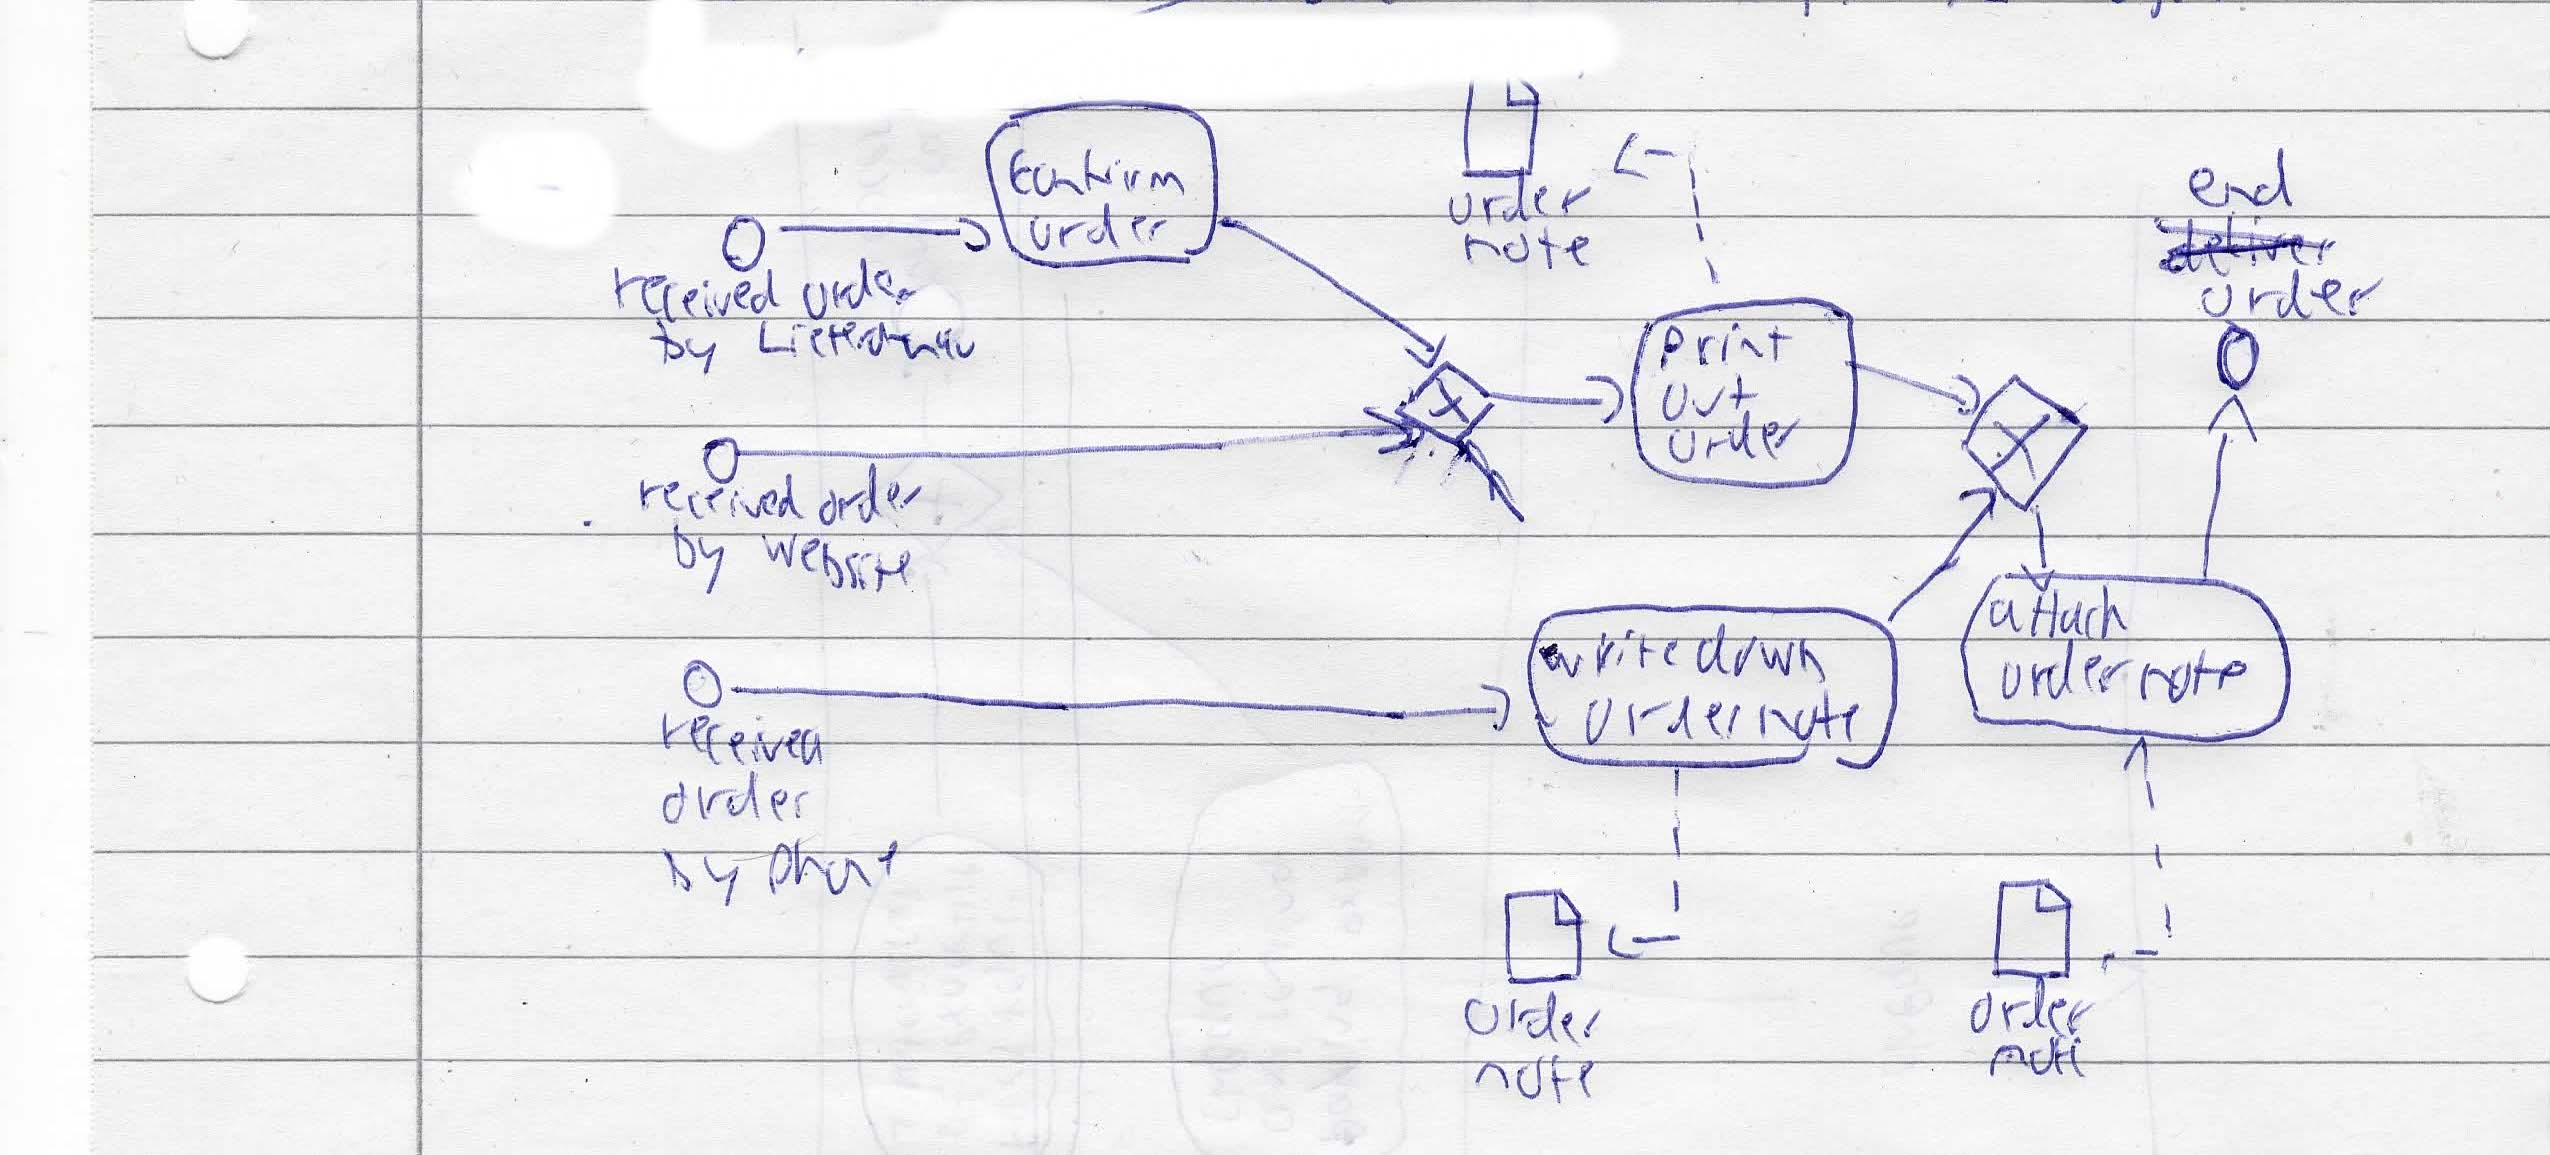Confirm: (1003, 146, 1186, 198)
Lieferando: (756, 316, 984, 364)
Order: (1581, 691, 1751, 743), (1464, 987, 1607, 1043)
Out: (1659, 376, 1760, 421)
attach: (1986, 587, 2127, 643)
by: (660, 839, 746, 904), (672, 514, 730, 595), (649, 319, 724, 374)
down: (1695, 621, 1826, 685)
end: (2186, 146, 2295, 211)
note: (1460, 228, 1595, 272), (1472, 1056, 1597, 1103), (1755, 691, 1865, 743), (2140, 649, 2248, 700), (1986, 1030, 2091, 1079)
order: (659, 769, 812, 831), (799, 252, 930, 320), (2199, 273, 2382, 322), (1995, 641, 2134, 701), (1025, 200, 1173, 254), (1665, 408, 1800, 465), (1447, 177, 1594, 226), (1966, 983, 2098, 1036), (818, 473, 925, 529)
phone: (763, 831, 904, 896)
print: (1656, 319, 1795, 369)
received: (607, 267, 784, 325), (655, 711, 828, 769), (634, 477, 808, 519)
website: (759, 529, 917, 599)
write: (1535, 626, 1685, 680)
